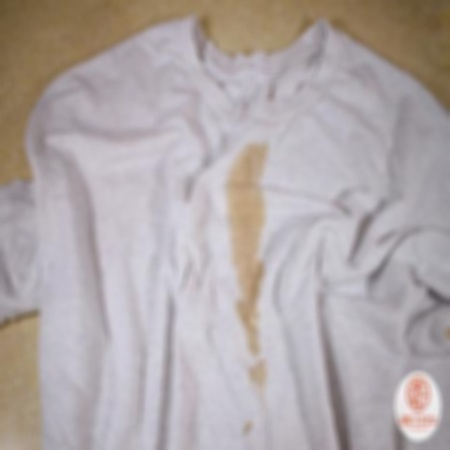coffee: (229, 146, 263, 264), (237, 267, 261, 349)
